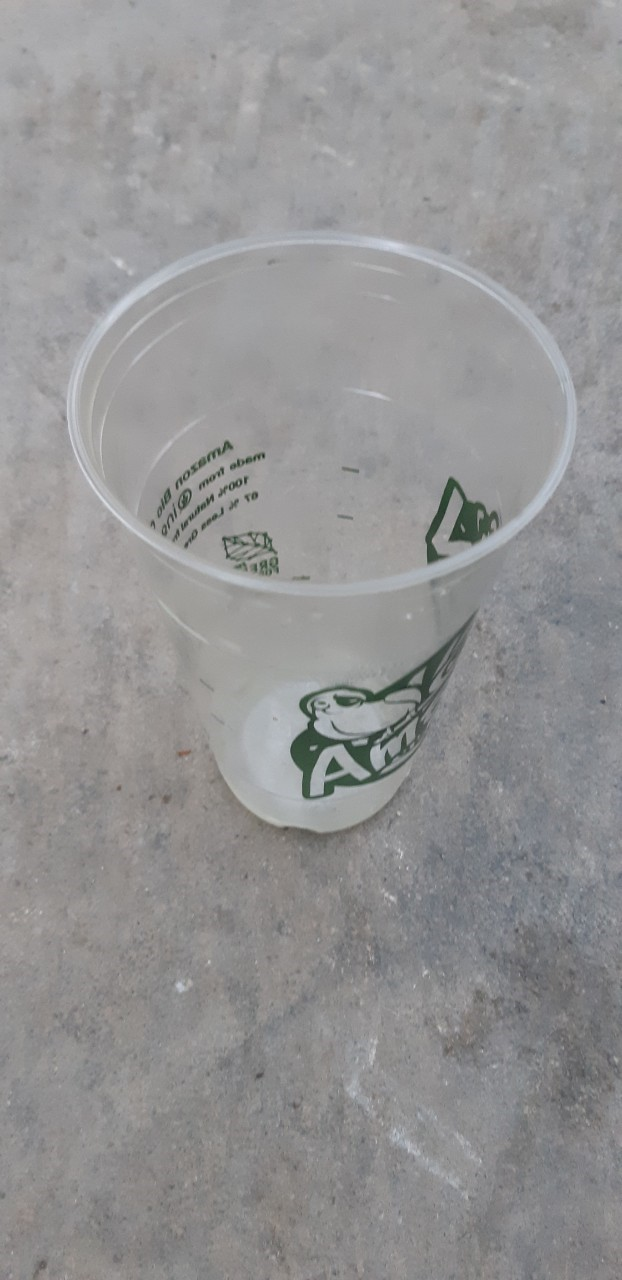PlasticCup: (65, 233, 582, 835)
